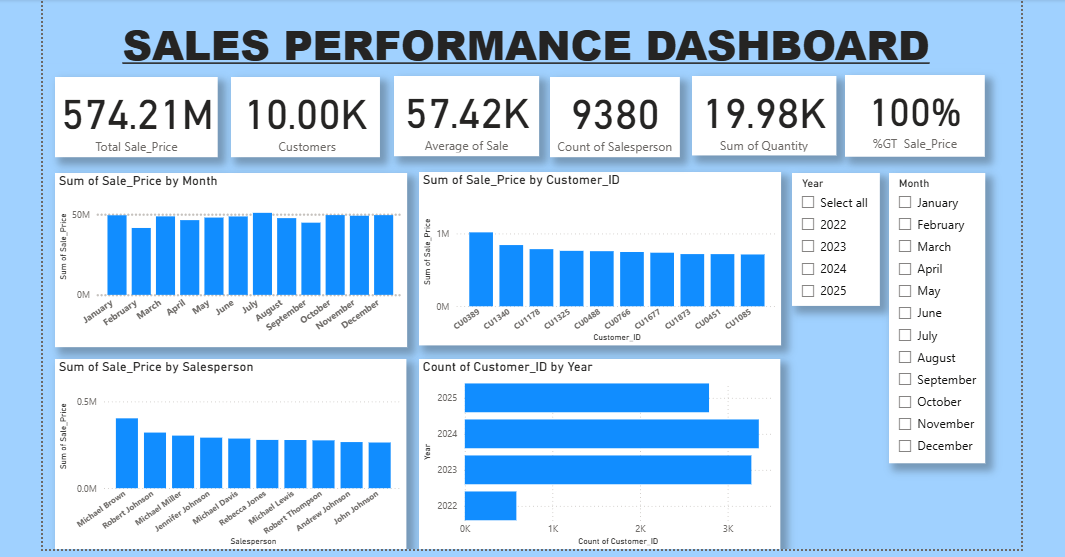

What the dashboard file says about the page in this screenshot:
{"tool":"powerbi","page":{"name":"Page 2","canvas":[1280,720],"ordinal":1},"visuals":[{"type":"clusteredColumnChart","fields":{"Y":["Sum(Sales.Sale_Price)"],"Category":["Sales.Sale_Date.Variation.Date Hierarchy.Month"]},"box":[15.8,227.5,460.8,227.5],"z":0},{"type":"clusteredColumnChart","fields":{"Category":["Sales.Salesperson"],"Y":["Sum(Sales.Sale_Price)"]},"box":[15.1,470.7,459.7,249.1],"z":1000},{"type":"clusteredColumnChart","fields":{"Category":["Sales.Customer_ID"],"Y":["Sum(Sales.Sale_Price)"]},"box":[492.2,226.8,473.7,226.8],"z":2000},{"type":"clusteredBarChart","fields":{"Y":["CountNonNull(Sales.Customer_ID)"],"Category":["Sales.Sale_Date.Variation.Date Hierarchy.Year"]},"box":[492.7,470.7,473.5,249.1],"z":3000},{"type":"textbox","title":" SALES PERFORMANCE DASHBOARD ","box":[229,23,820.8,64.8],"z":4000},{"type":"card","fields":{"Values":["Sum(Sales.Sale_Price)"]},"box":[15.7,102.1,213.4,104.7],"z":5000},{"type":"card","fields":{"Values":["CountNonNull(Sales.Customer_ID)"]},"box":[246.1,102.1,195.1,104.7],"z":6000},{"type":"card","fields":{"Values":["Avg(Sales.Sale_Price)"]},"box":[459.4,100.8,190.1,105.1],"z":7000},{"type":"card","fields":{"Values":["Count(Sales.Salesperson)"]},"box":[663.8,102.2,169.9,105.1],"z":8000},{"type":"card","fields":{"Values":["Sum(Sales.Quantity)","select"]},"box":[850,101.4,188.6,104.3],"z":9000},{"type":"slicer","fields":{"Values":["Sales.Sale_Date.Variation.Date Hierarchy.Year"]},"box":[980.6,227.5,115.2,174.2],"z":10000},{"type":"slicer","fields":{"Values":["Sales.Sale_Date.Variation.Date Hierarchy.Month"]},"box":[1107.1,227.1,125.7,380],"z":11000},{"type":"card","fields":{"Values":["Sum(Sales.Sale_Price)"]},"box":[1049.8,99.4,182.9,106.6],"z":12000}]}

Visuals, with their boxes on the page's 1280x720 design canvas (x1, y1, x2, y2). These are canvas units, not pixel positions in the 1065x557 screenshot, which may show the page scaled, cropped or inside an application window:
clusteredColumnChart - Sum(Sales.Sale_Price) x Sales.Sale_Date.Variation.Date Hierarchy.Month: (x1=16, y1=228, x2=477, y2=455)
clusteredColumnChart - Sales.Salesperson x Sum(Sales.Sale_Price): (x1=15, y1=471, x2=475, y2=720)
clusteredColumnChart - Sales.Customer_ID x Sum(Sales.Sale_Price): (x1=492, y1=227, x2=966, y2=454)
clusteredBarChart - CountNonNull(Sales.Customer_ID) x Sales.Sale_Date.Variation.Date Hierarchy.Year: (x1=493, y1=471, x2=966, y2=720)
" SALES PERFORMANCE DASHBOARD " textbox: (x1=229, y1=23, x2=1050, y2=88)
card - Sum(Sales.Sale_Price): (x1=16, y1=102, x2=229, y2=207)
card - CountNonNull(Sales.Customer_ID): (x1=246, y1=102, x2=441, y2=207)
card - Avg(Sales.Sale_Price): (x1=459, y1=101, x2=650, y2=206)
card - Count(Sales.Salesperson): (x1=664, y1=102, x2=834, y2=207)
card - Sum(Sales.Quantity) x select: (x1=850, y1=101, x2=1039, y2=206)
slicer - Sales.Sale_Date.Variation.Date Hierarchy.Year: (x1=981, y1=228, x2=1096, y2=402)
slicer - Sales.Sale_Date.Variation.Date Hierarchy.Month: (x1=1107, y1=227, x2=1233, y2=607)
card - Sum(Sales.Sale_Price): (x1=1050, y1=99, x2=1233, y2=206)
